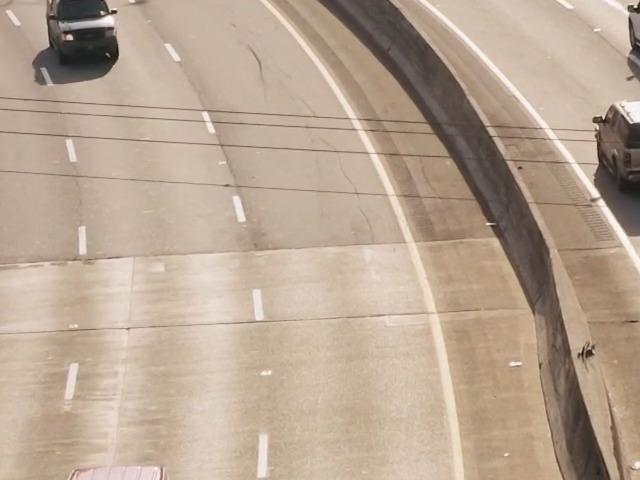car: (576, 93, 640, 210), (40, 0, 130, 76)
